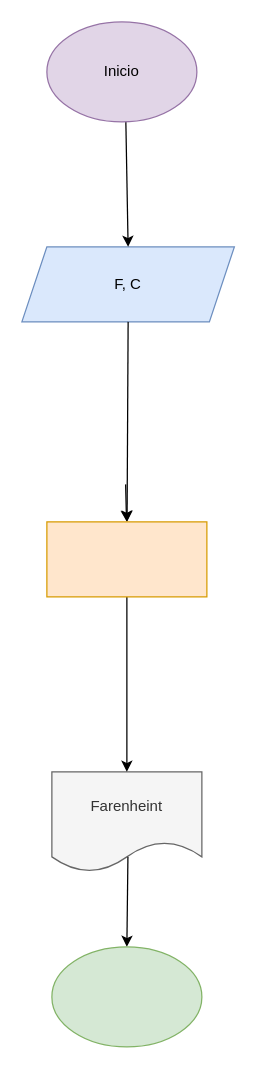
Image size: 256x1069. Some labels were removed from this diagram. The shapes that lost their labels are listed below. From the top down, each one's box as (x1, y1, x2, y2) in pixels, then its label:
(46, 521, 207, 597): F= (9*C+160)/5
(51, 946, 202, 1047): Fim
